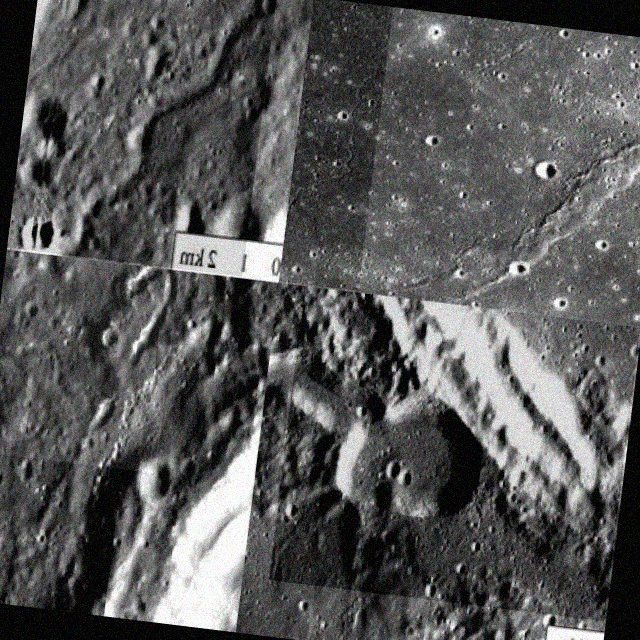crater: (268, 286, 640, 622), (6, 0, 276, 276), (0, 248, 180, 473), (278, 0, 392, 290)
